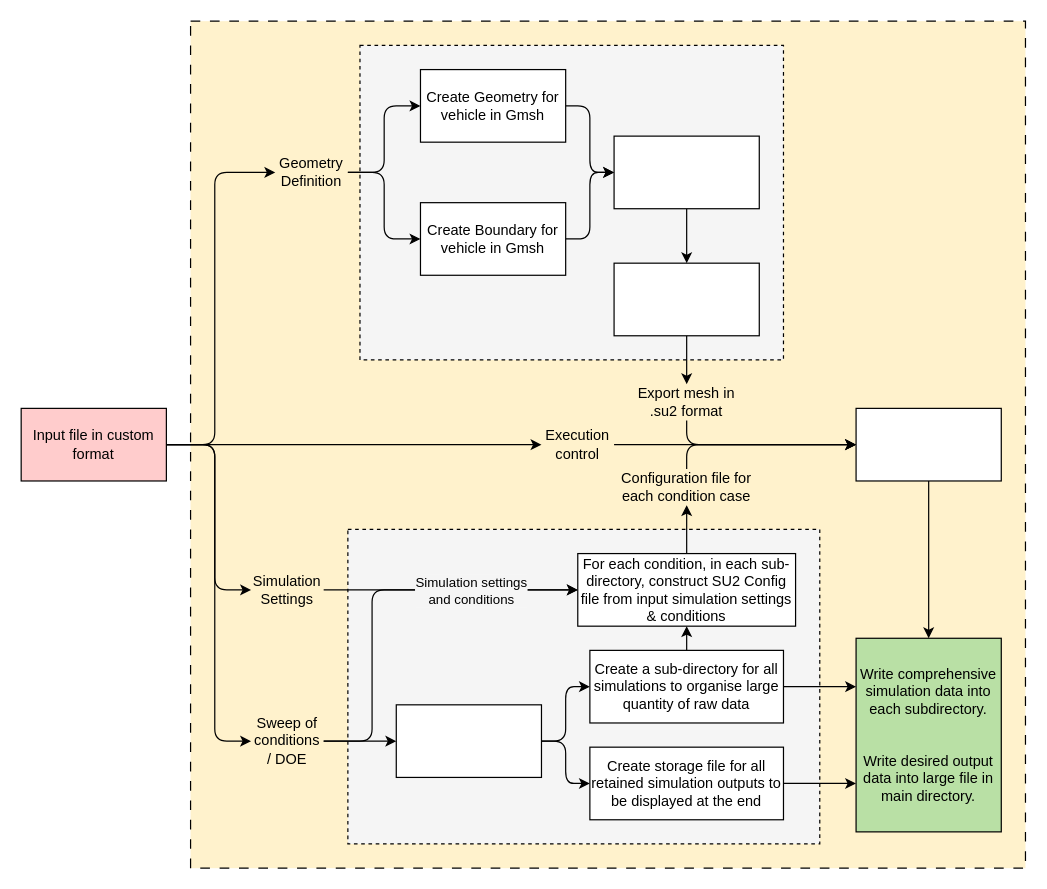
Some shapes in this 1047 by 889 pixel diagram are drawn without their labels. The centre of each missing label's shape, as x and y in pixels:
Create directory in specified location: point 468,740
For each simulation configuration, SU2 Run: point 928,444
Gmsh Mesh Procedure to produce independent mesh: point 686,299
Use Boolean Operation to create computational domain: point 686,172
